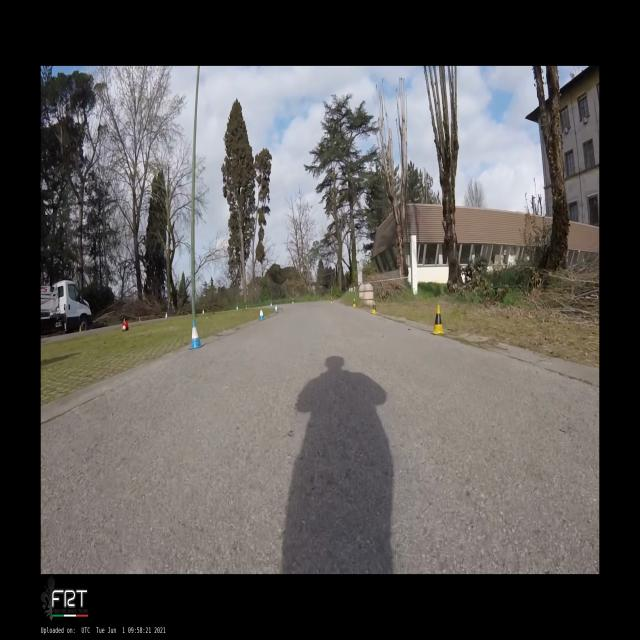blue_cone: (188, 319, 203, 350), (259, 308, 265, 320), (275, 303, 278, 313), (165, 312, 168, 320), (202, 309, 205, 314), (270, 302, 272, 308), (236, 306, 238, 310)
orange_cone: (122, 321, 128, 332)
unknown_cone: (79, 325, 82, 332)
yellow_cone: (431, 305, 446, 335), (371, 302, 376, 314), (353, 298, 356, 307), (330, 297, 332, 304), (292, 298, 294, 304), (246, 305, 247, 309)
